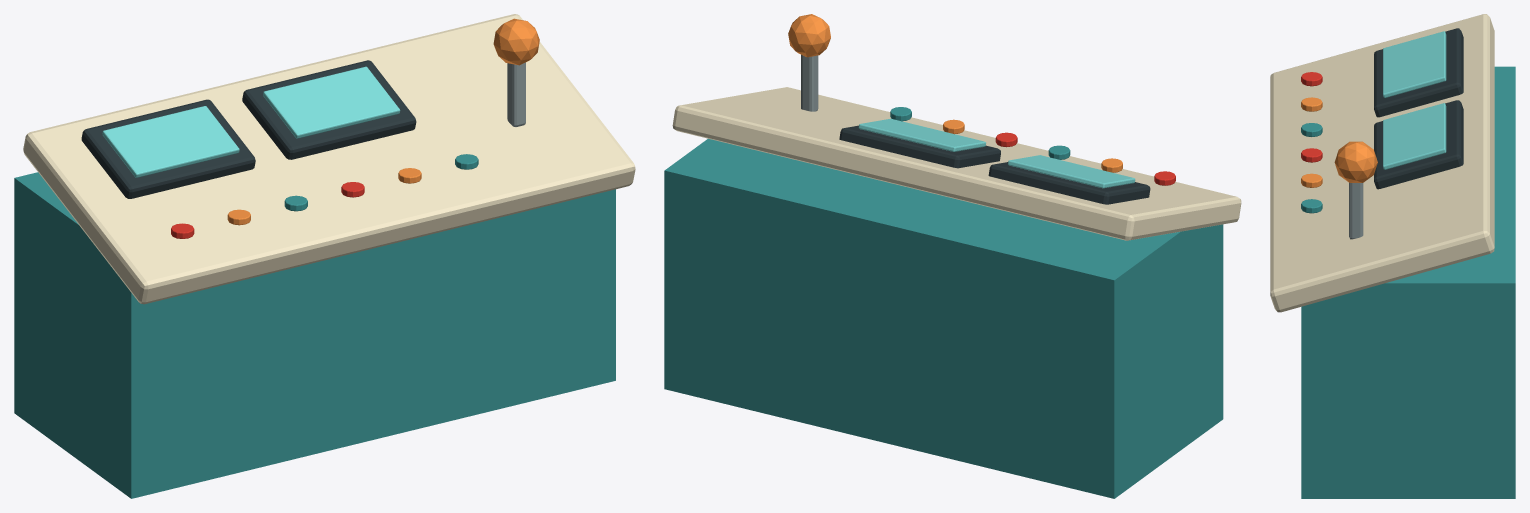
Rendered from S082_starship_console.glb.
3 views of the same model, side by side, from view 1: azimuth 30°, elevation 25°; view 2: azimuth 150°, elevation 25°; view 3: azimuth 270°, elevation 25° (orthographic). The views are drawn at different scales.
Visible parts, largest first — view 1: console_body, slanted_control_face, screen_face, screen_face.001, console_screen, console_screen.001, stick_grip, control_stick; view 2: console_body, slanted_control_face, console_screen, console_screen.001, screen_face.001, screen_face, stick_grip, control_stick; view 3: console_body, slanted_control_face, screen_face, screen_face.001, console_screen, console_screen.001, stick_grip, control_stick.
Part boxes in pixels (x1,y1,x2,y2): console_body: (14, 172, 615, 498); slanted_control_face: (23, 14, 635, 304); screen_face: (102, 106, 239, 177); screen_face.001: (263, 66, 400, 138); console_screen: (81, 99, 255, 198); console_screen.001: (242, 60, 416, 159); stick_grip: (493, 18, 539, 65); control_stick: (507, 62, 525, 126); console_body: (664, 138, 1223, 498); slanted_control_face: (672, 87, 1241, 240); console_screen: (988, 162, 1150, 204); console_screen.001: (839, 125, 1000, 168); screen_face.001: (858, 118, 985, 151); screen_face: (1008, 155, 1135, 188); stick_grip: (788, 14, 830, 57); control_stick: (801, 54, 818, 111); console_body: (1301, 66, 1515, 498); slanted_control_face: (1270, 14, 1494, 312); screen_face: (1383, 31, 1446, 97); screen_face.001: (1383, 103, 1446, 169); console_screen: (1374, 28, 1463, 117); console_screen.001: (1374, 100, 1463, 189); stick_grip: (1334, 141, 1377, 182); control_stick: (1349, 183, 1363, 239).
Bounding box in the file's own units: 2 × 1.37 × 0.9392.
